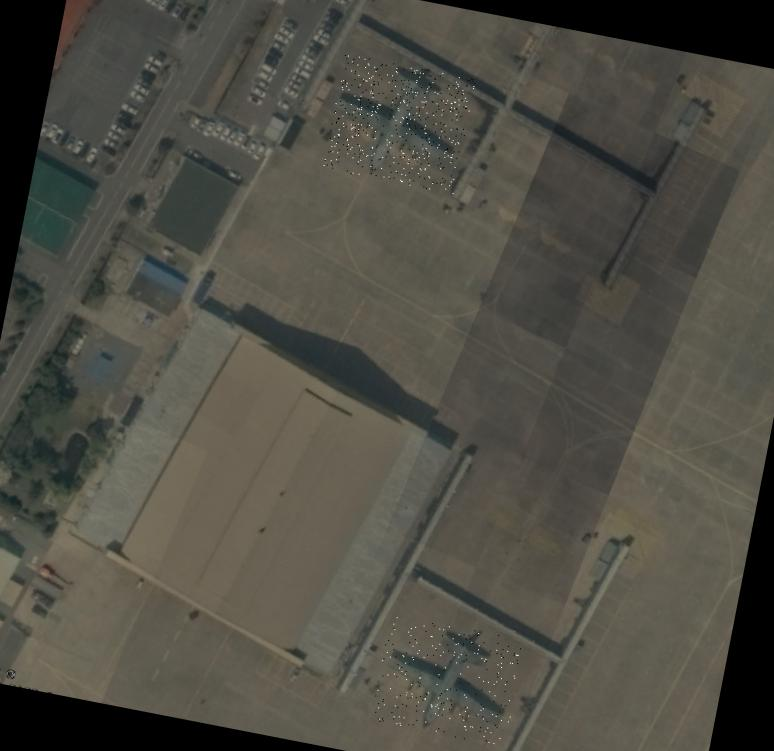A2: (322, 53, 476, 193), (370, 613, 525, 746)
